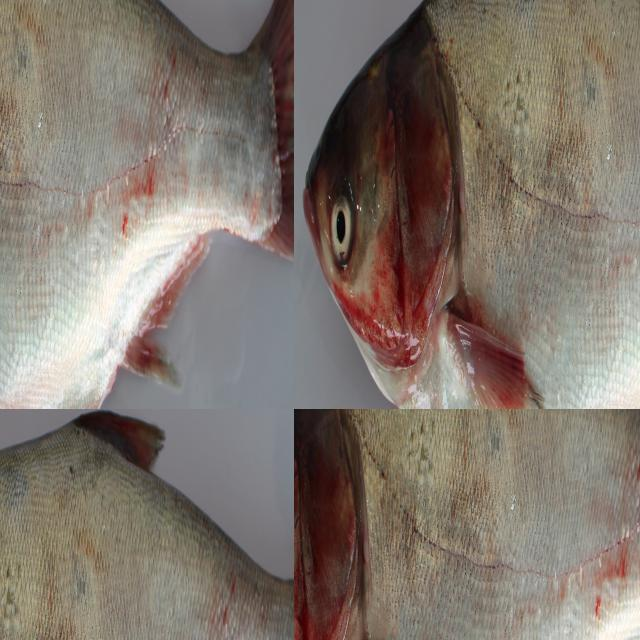fish: (0, 0, 294, 409), (294, 409, 640, 640)
